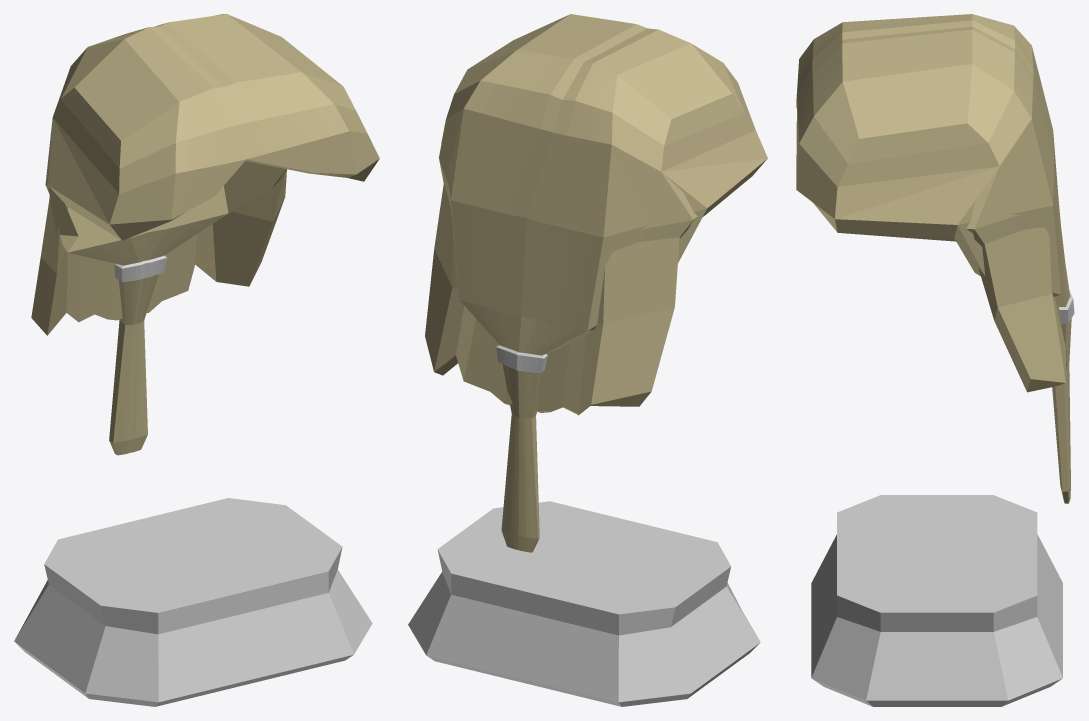
File: Tennis player extras.fbx
The picture shows the model from 3 angles, left to right: view 1: azimuth 30°, elevation 25°; view 2: azimuth 150°, elevation 25°; view 3: azimuth 270°, elevation 25°; orthographic projection.
Visible parts, largest first — view 1: Hair loose, Skirt, Hair loose 1; view 2: Hair loose, Skirt, Hair loose 1; view 3: Hair loose, Skirt, Hair loose 1.
Part boxes in pixels (x1,y1,x2,y2): Hair loose: (31, 14, 379, 335); Skirt: (14, 498, 372, 706); Hair loose 1: (48, 118, 286, 455); Hair loose: (425, 14, 767, 415); Skirt: (408, 501, 760, 706); Hair loose 1: (441, 108, 767, 552); Hair loose: (796, 14, 1066, 392); Skirt: (811, 495, 1062, 706); Hair loose 1: (835, 47, 1074, 503).
Bounding box in the file's own units: 100 × 203 × 84.21.
